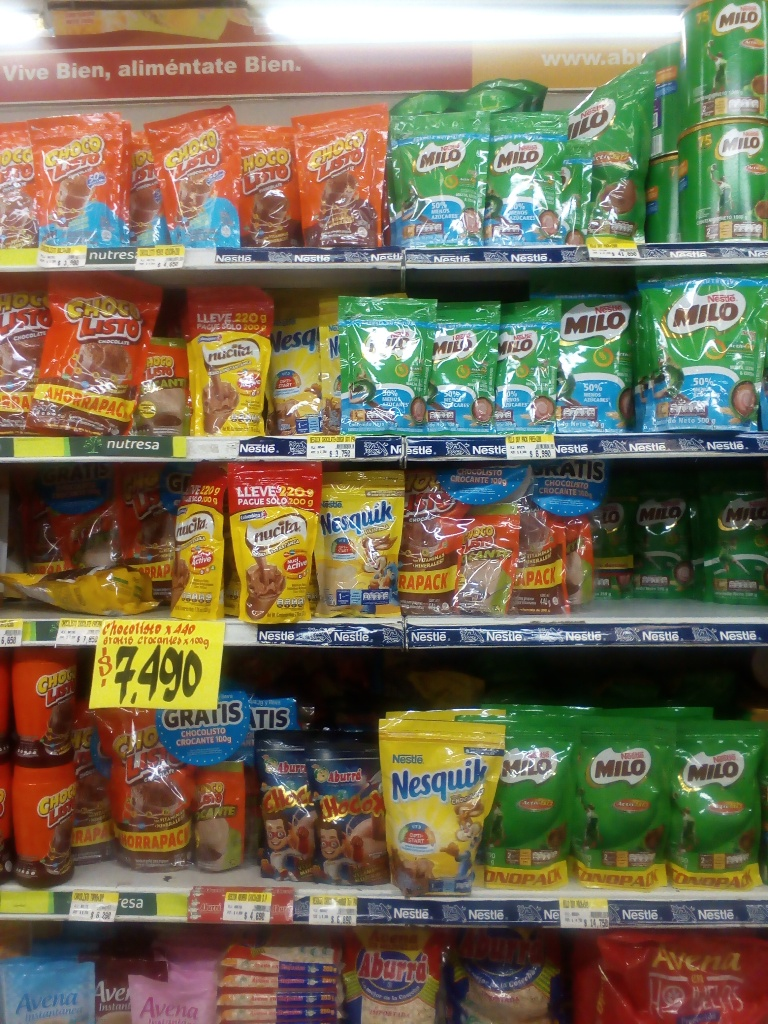COL0170102DYP10000: (139, 334, 193, 433)
COL0170103DYP20000: (282, 103, 391, 248)
COL0170103DYP44000: (31, 269, 151, 438)
COL0170103TRR30000: (11, 761, 76, 891)
COL0170104DYP20000: (137, 107, 239, 245)
COL0170203DYP25000: (602, 473, 646, 606)
COL0170203DYP50000: (671, 716, 768, 891)
COL0170205DYP20000: (488, 111, 569, 245)
COL0170205DYP50000: (636, 266, 764, 432)
COL0170303DYP20000: (264, 300, 333, 434)
COL0170306DYP20000: (311, 468, 406, 618)
